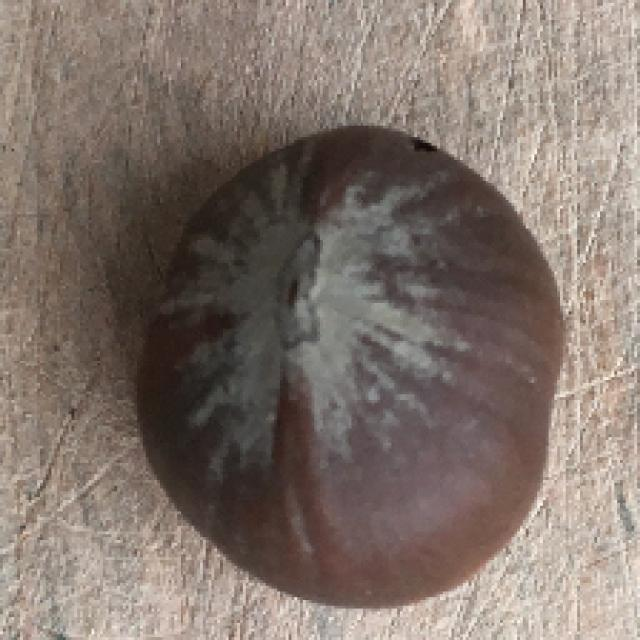damagedHazelnut: (145, 130, 560, 607)
